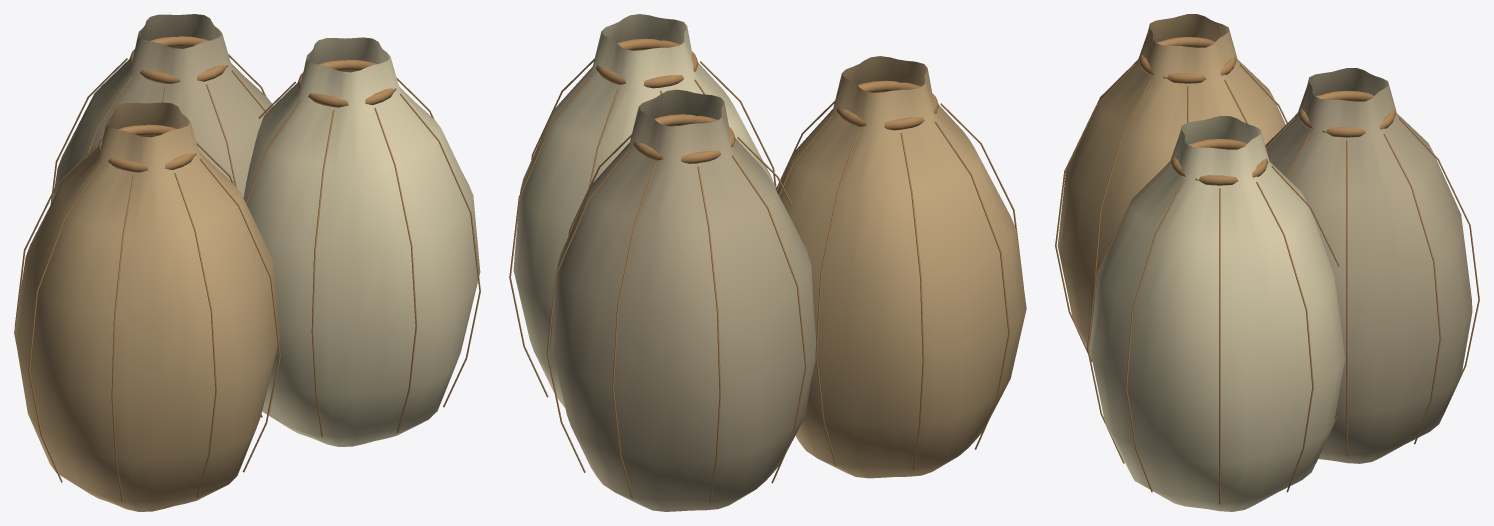
The model's file is sacos.glb.
3 views of the same model, side by side, from view 1: azimuth 30°, elevation 25°; view 2: azimuth 150°, elevation 25°; view 3: azimuth 270°, elevation 25° (orthographic). The views are drawn at different scales.
Visible parts, largest first — view 1: Saco de juta 1, Saco de juta 2, Saco de juta 3, Saco 1 | costuras, Saco 2 | costuras, Saco 1 | cordão, Saco 2 | cordão, Saco 3 | cordão, Saco 3 | costuras; view 2: Saco de juta 3, Saco de juta 1, Saco de juta 2, Saco 3 | costuras, Saco 1 | costuras, Saco 2 | costuras, Saco 3 | cordão, Saco 1 | cordão, Saco 2 | cordão; view 3: Saco de juta 2, Saco de juta 3, Saco de juta 1, Saco 2 | costuras, Saco 3 | costuras, Saco 1 | costuras, Saco 1 | cordão, Saco 2 | cordão, Saco 3 | cordão.
Part boxes in pixels (left/top/right/bottom): Saco de juta 1: left=14, top=102, right=279, bottom=511; Saco de juta 2: left=243, top=37, right=480, bottom=446; Saco de juta 3: left=52, top=14, right=273, bottom=200; Saco 1 | costuras: left=14, top=142, right=280, bottom=501; Saco 2 | costuras: left=245, top=77, right=480, bottom=436; Saco 1 | cordão: left=97, top=124, right=196, bottom=172; Saco 2 | cordão: left=297, top=59, right=396, bottom=107; Saco 3 | cordão: left=129, top=36, right=228, bottom=83; Saco 3 | costuras: left=50, top=54, right=267, bottom=204; Saco de juta 3: left=551, top=89, right=816, bottom=511; Saco de juta 1: left=777, top=56, right=1026, bottom=478; Saco de juta 2: left=513, top=14, right=775, bottom=407; Saco 3 | costuras: left=546, top=134, right=806, bottom=503; Saco 1 | costuras: left=775, top=101, right=1023, bottom=469; Saco 2 | costuras: left=509, top=58, right=776, bottom=397; Saco 3 | cordão: left=633, top=114, right=735, bottom=163; Saco 1 | cordão: left=836, top=80, right=938, bottom=130; Saco 2 | cordão: left=596, top=38, right=698, bottom=88; Saco de juta 2: left=1089, top=116, right=1344, bottom=511; Saco de juta 3: left=1265, top=68, right=1472, bottom=463; Saco de juta 1: left=1057, top=14, right=1285, bottom=357; Saco 2 | costuras: left=1087, top=166, right=1339, bottom=504; Saco 3 | costuras: left=1266, top=117, right=1479, bottom=456; Saco 1 | costuras: left=1055, top=64, right=1287, bottom=361; Saco 1 | cordão: left=1139, top=37, right=1236, bottom=83; Saco 2 | cordão: left=1171, top=139, right=1268, bottom=185; Saco 3 | cordão: left=1298, top=90, right=1395, bottom=137.
Size of the model in its own units: 1.11 by 0.86 by 0.9336.
